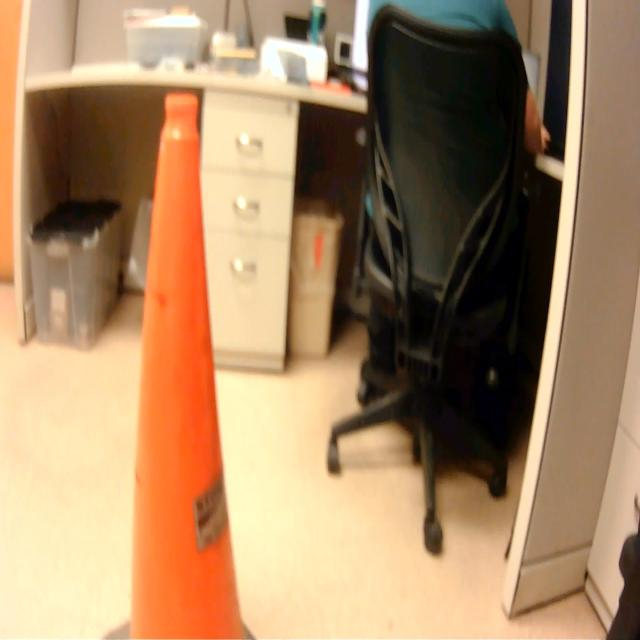traffic cone: (98, 87, 273, 640)
